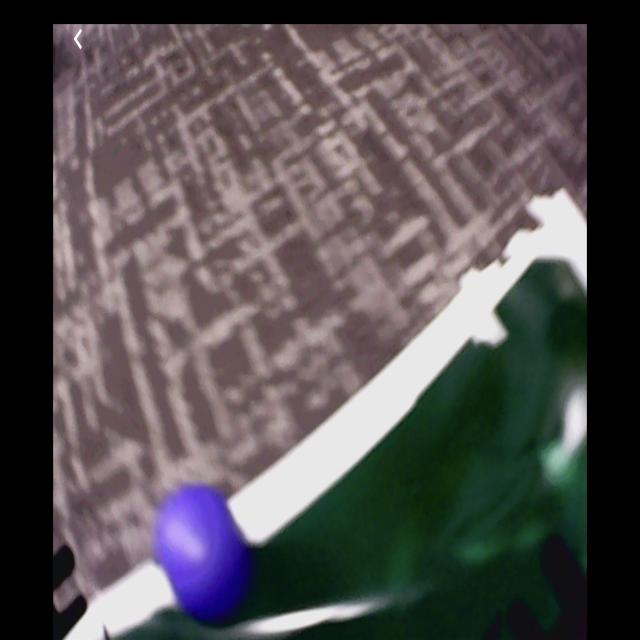ball: (160, 490, 245, 623)
